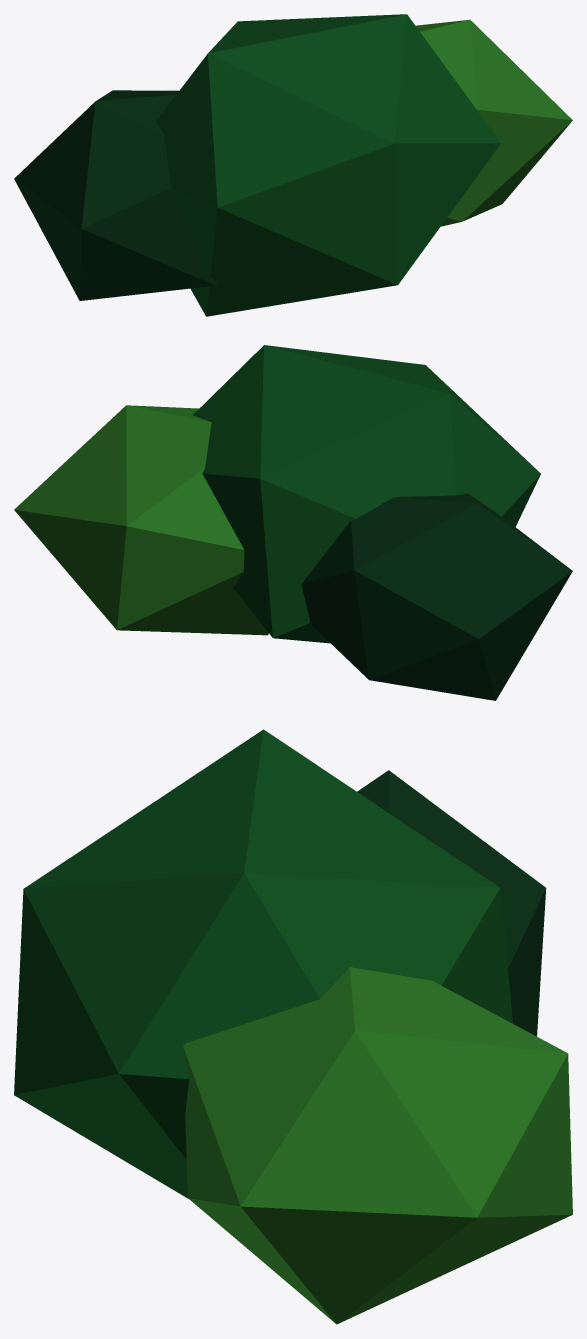
File: world_bush_a.fbx
3 renders of one model, top to bottom at view 1: azimuth 30°, elevation 25°; view 2: azimuth 150°, elevation 25°; view 3: azimuth 270°, elevation 25°, orthographic. The views are drawn at different scales.
Visible parts, largest first — view 1: world_bush_a; view 2: world_bush_a; view 3: world_bush_a.
Part boxes in pixels (box(x1,y1,x2,y2)): world_bush_a: box(14, 14, 572, 316); world_bush_a: box(14, 345, 572, 700); world_bush_a: box(14, 729, 572, 1324).
Size of the model in its own units: 370 by 190 by 248.
